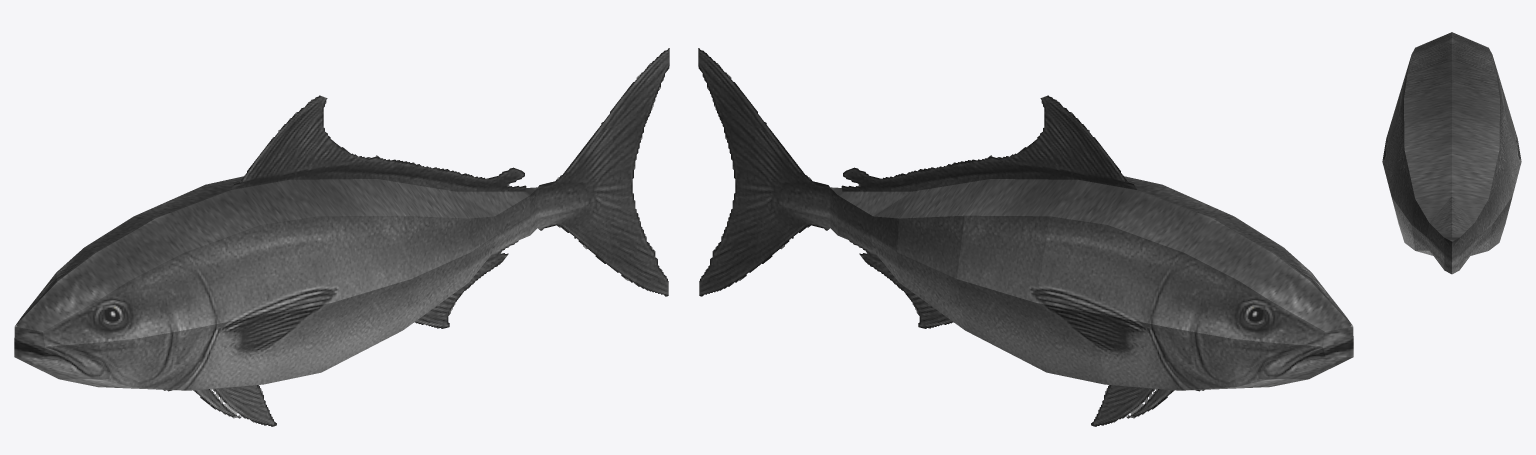
File: Mistrifttail.fbx
The picture shows the model from 3 angles, left to right: view 1: azimuth 30°, elevation 25°; view 2: azimuth 150°, elevation 25°; view 3: azimuth 270°, elevation 25°; orthographic projection. The views are drawn at different scales.
Parts seen in each view (by area): view 1: Tuna; view 2: Tuna; view 3: Tuna.
Boxes of the visible parts, box(x1,y1,x2,y2) form: Tuna: box(14, 48, 669, 426); Tuna: box(698, 48, 1353, 426); Tuna: box(1382, 32, 1521, 274).
Size of the model in its own units: 179 by 90.23 by 40.63.
Materials: 1 (1 with a texture image).
